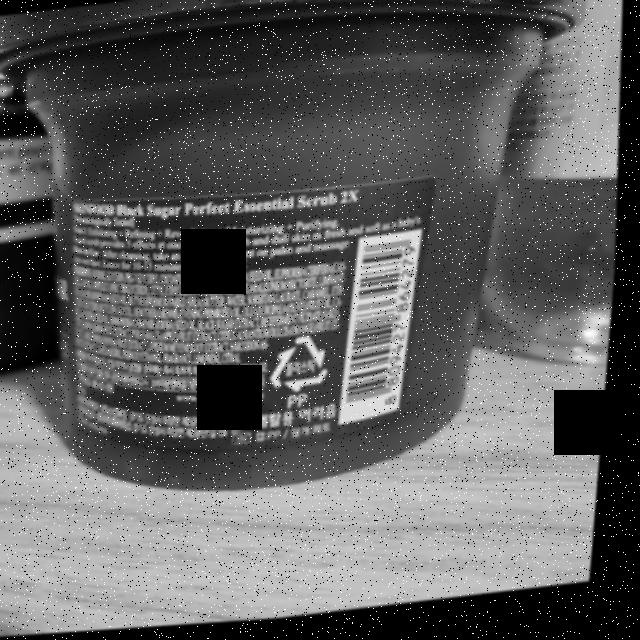Plastic: (273, 338, 338, 400)
